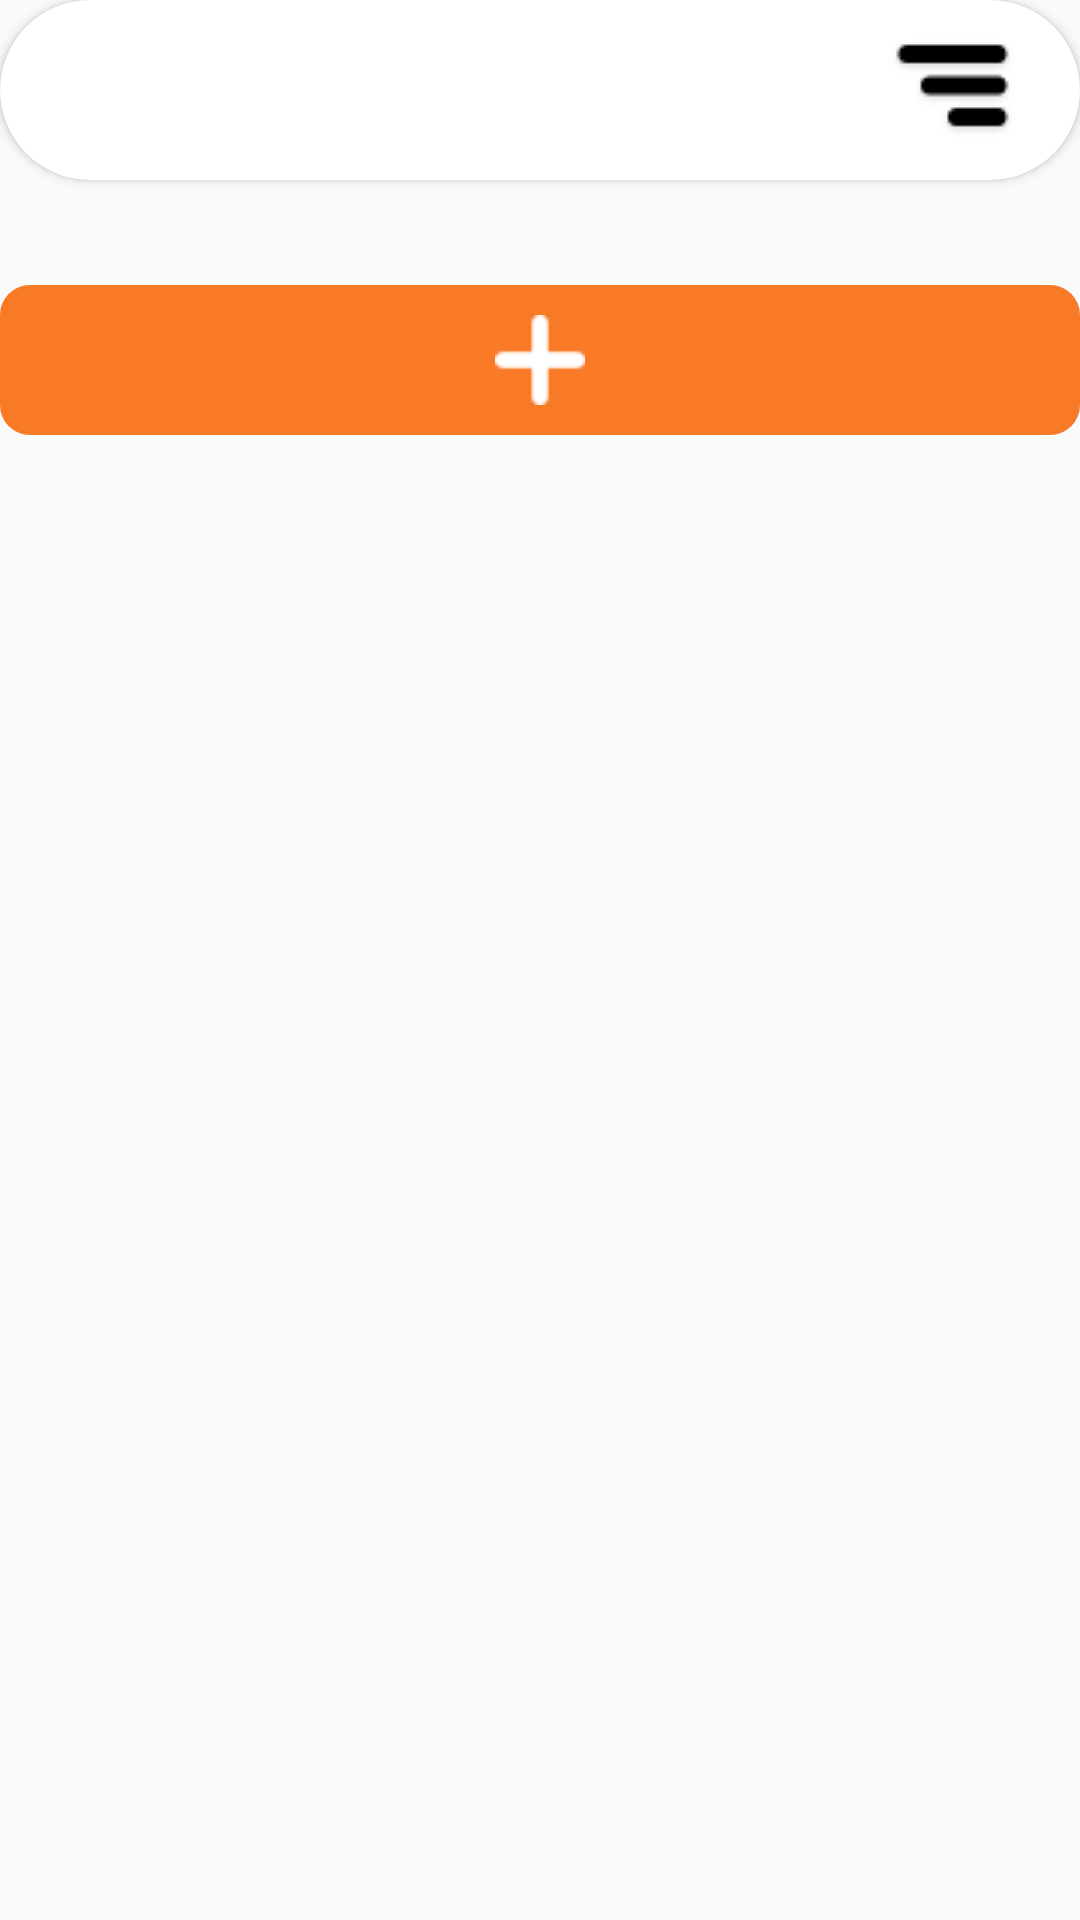

Icons on this 1080×1920 Android screen, each with its box as (x1, y1, x2, y2):
navigation: (896, 44, 1009, 128)
